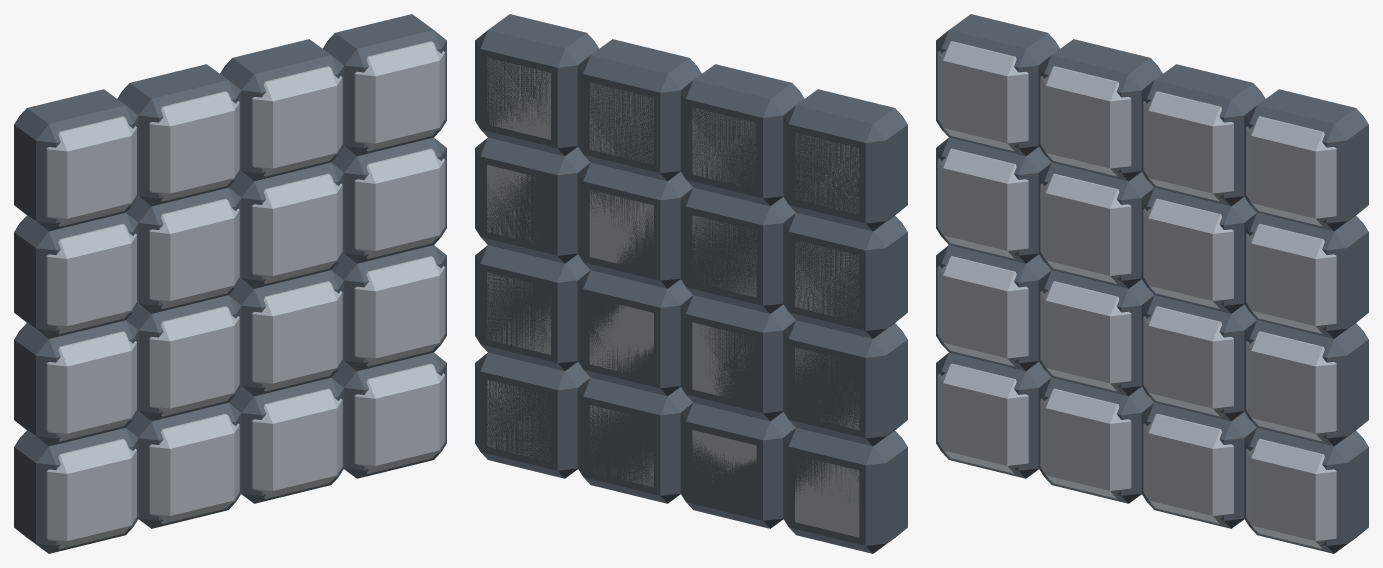
File: Terrain_Block4x4.gltf
3 renders of one model, left to right at view 1: azimuth 30°, elevation 25°; view 2: azimuth 150°, elevation 25°; view 3: azimuth 330°, elevation 25°, orthographic.
Parts seen in each view (by area): view 1: Terrain_Block4x4_baked; view 2: Terrain_Block4x4_baked; view 3: Terrain_Block4x4_baked.
Boxes of the visible parts, bbox=[...] form: Terrain_Block4x4_baked: bbox=[14, 14, 446, 553]; Terrain_Block4x4_baked: bbox=[475, 14, 907, 553]; Terrain_Block4x4_baked: bbox=[936, 14, 1368, 553].
Bounding box in the file's own units: 4 × 4 × 0.7.
